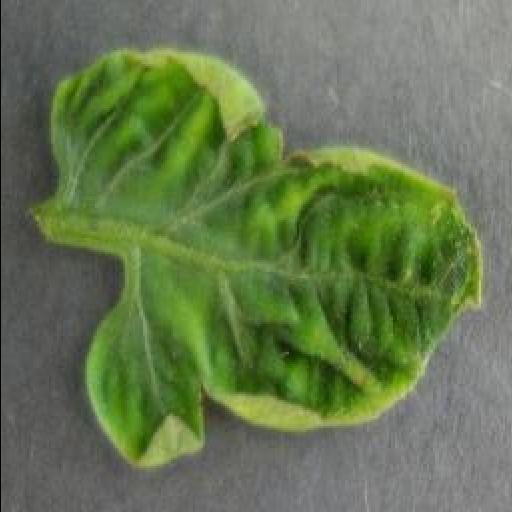disease_tomato: (50, 48, 484, 470)
